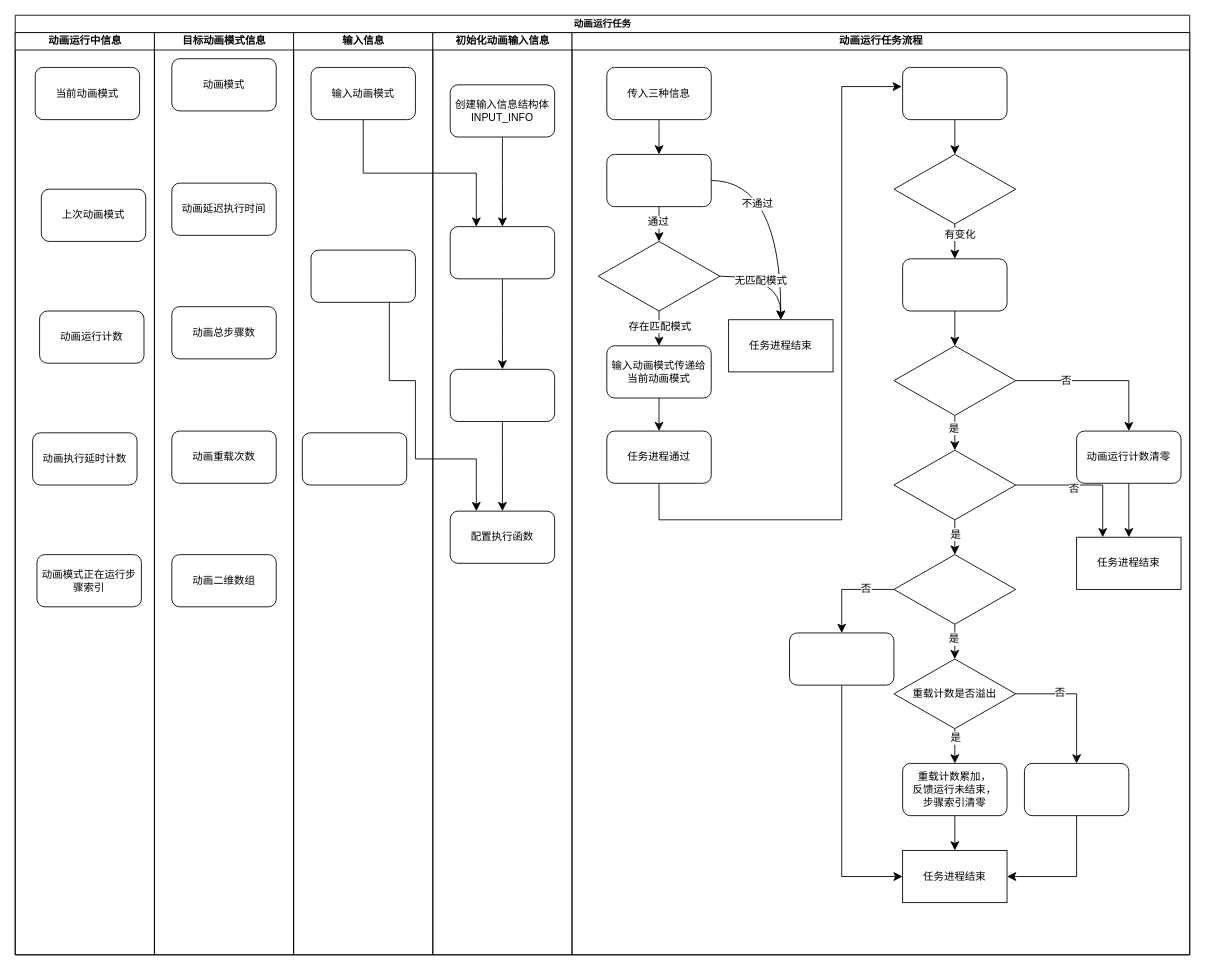
Image size: 1205x970. Some labels were removed from this diagram. The centre of each missing label's shape, as x and y in pixels:
动画延时计数是否溢出: pixel 954 380
动画步骤索引累加， 反馈运行未结束: pixel 841 658
动画运行信息： 延迟计数累加 动画运行计数累加: pixel 954 93
动画运行结束反馈: pixel 354 458
动画运行计数是否溢出: pixel 954 484
动画运行计数清零， 动画步骤是否溢出: pixel 954 589
响应新动画模式， 重置延时计数， 重置步骤索引 动画模式改变: pixel 954 284
当前动画模式对比上次动画模式: pixel 954 189
指针校验: pixel 658 180
输入信息与存储动画信息模式匹配: pixel 658 276
输入动画二维数组执行函数: pixel 362 275
输入模式: pixel 502 252
重载计数保持， 反馈运行结束， 步骤索引保持: pixel 1076 789
默认动画运行结束: pixel 502 395
